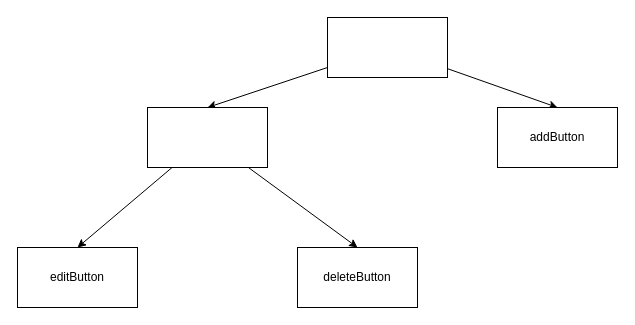
Image size: 635x325. Some labels were removed from this diagram. Here are the shapes that lost their labels. From the top down, the centre of each, then its label:
At point 387,47: "App".
At point 207,137: "toDo".
